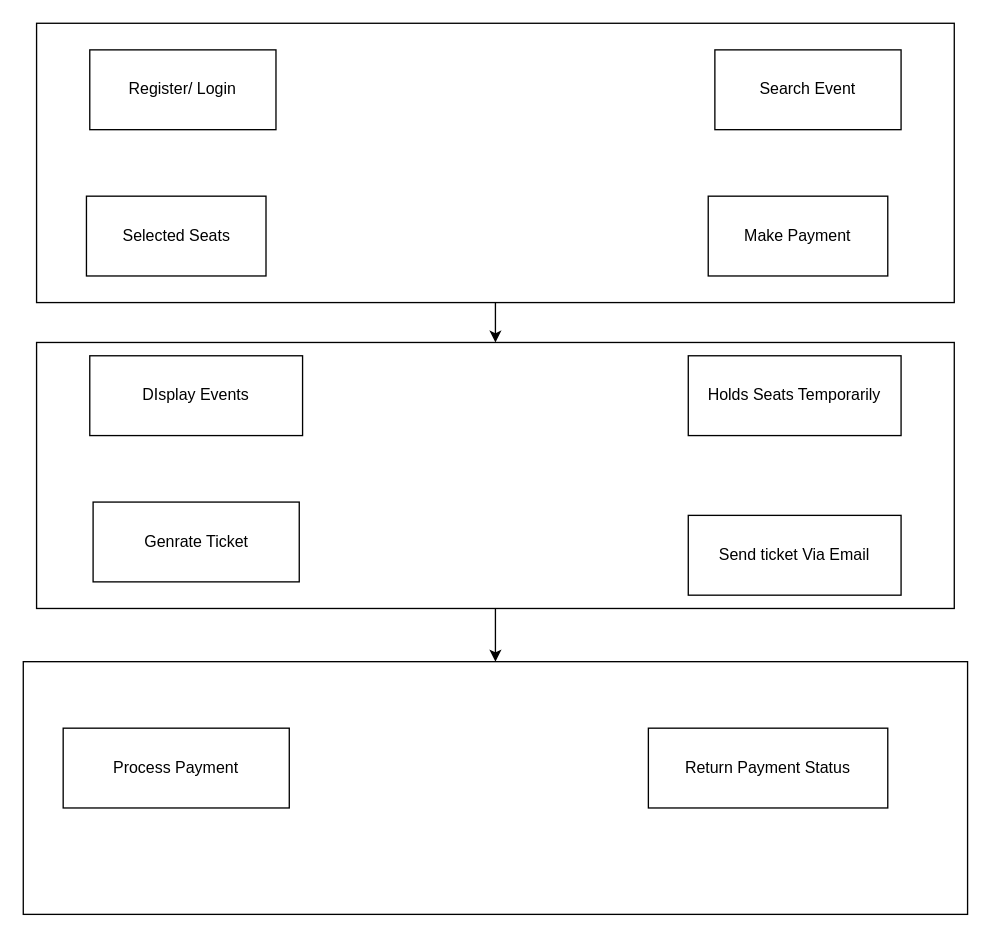
The diagram is 991 pixels wide and 938 high, and some of its shapes have lost their labels. The shapes that lost their labels are listed below. From the top down, each one's box as (x1, y1, x2, y2) in pixels, then its label:
(35, 22, 954, 303): CUSTOMER
(35, 341, 954, 608): SYSTEM
(22, 660, 968, 914): PAYMENT GATEWAY
